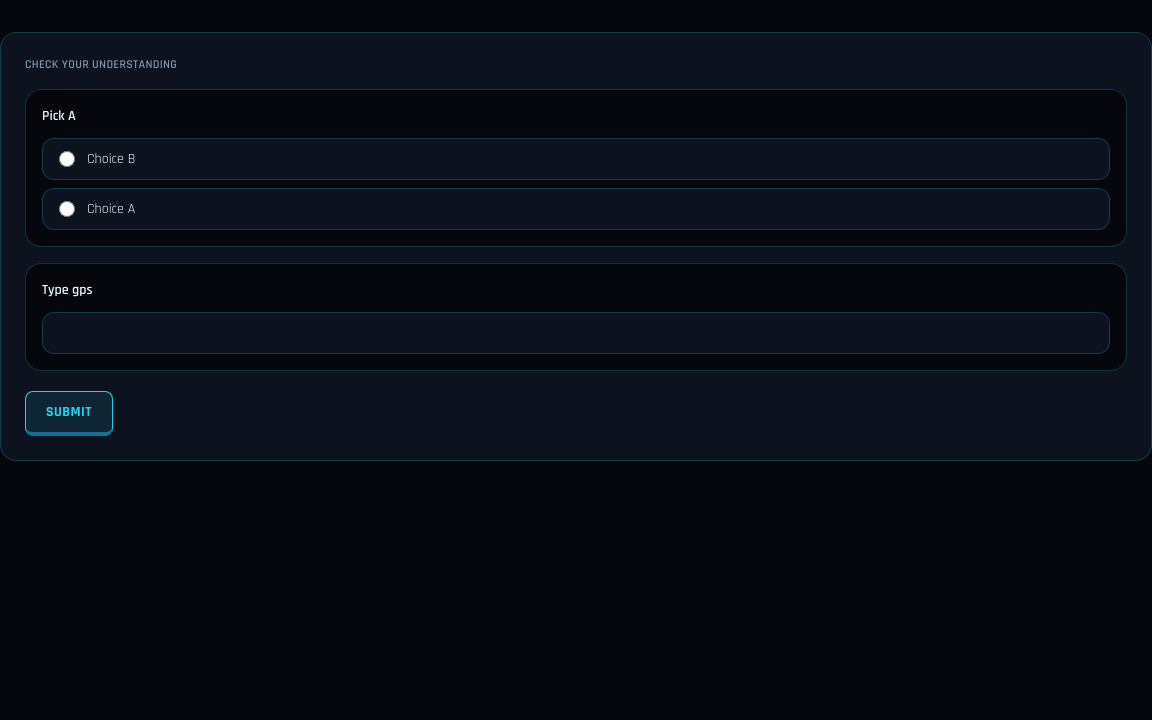
Scenario: Quiz › grades answers on submit and shows per-question feedback and overall score
The width and height of the screenshot is (1152, 720).
Click the radio button labelled "Choice A".
click(67, 209)  # box [59,201,75,217]
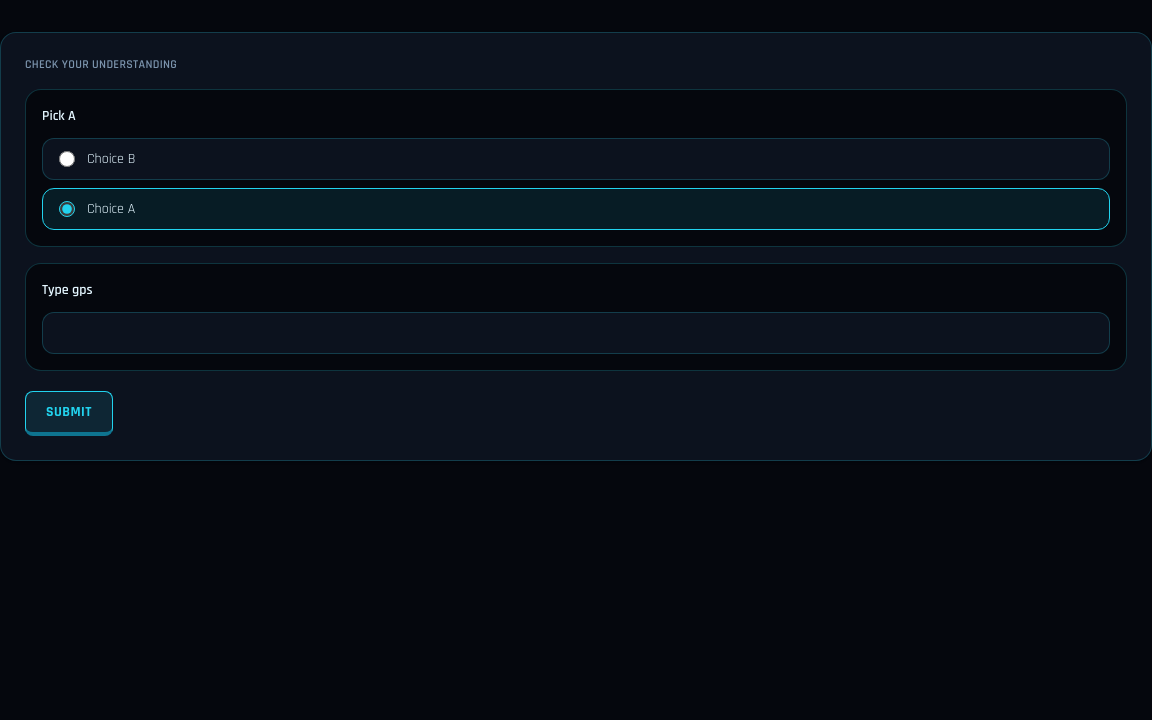
Type "GPS" into the field named "Type gps".
click(576, 333); type("GPS")  # box [42,312,1110,354]
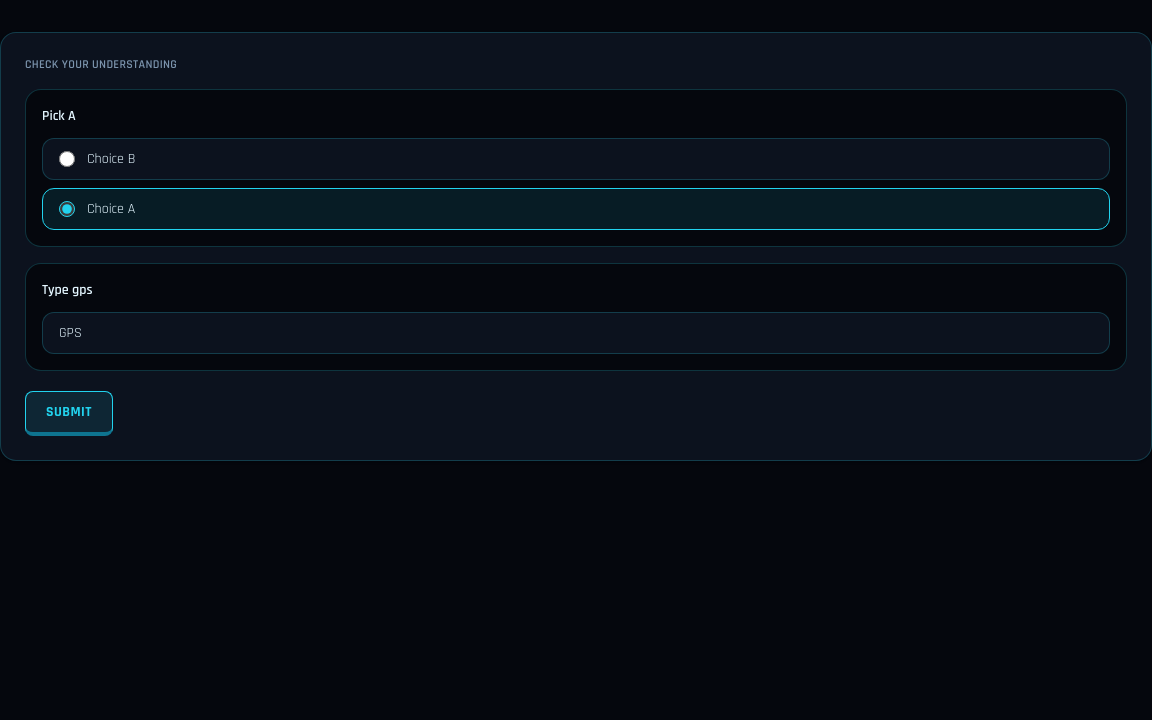
Click the button "Submit".
click(69, 414)  # box [25,391,113,436]
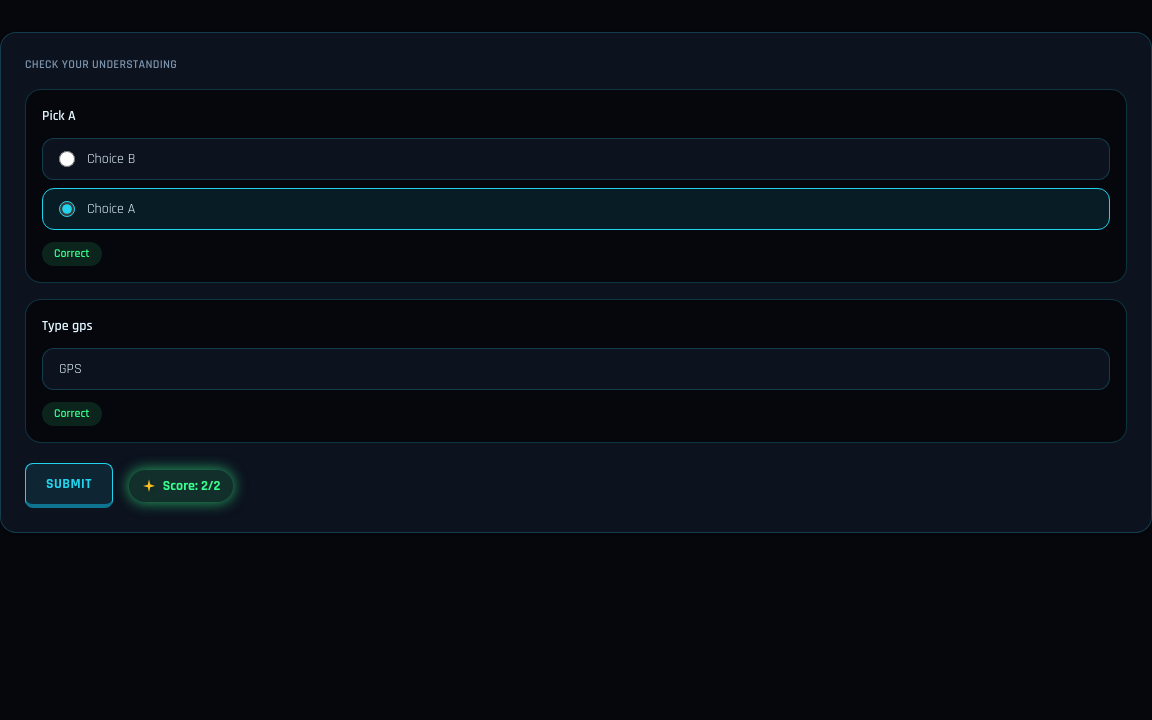
Result: the text "Correct" is shown 2 times at [42,242,102,266]; [42,402,102,426]
Result: the text "Score: 2/2" is shown at [129,470,232,502]
